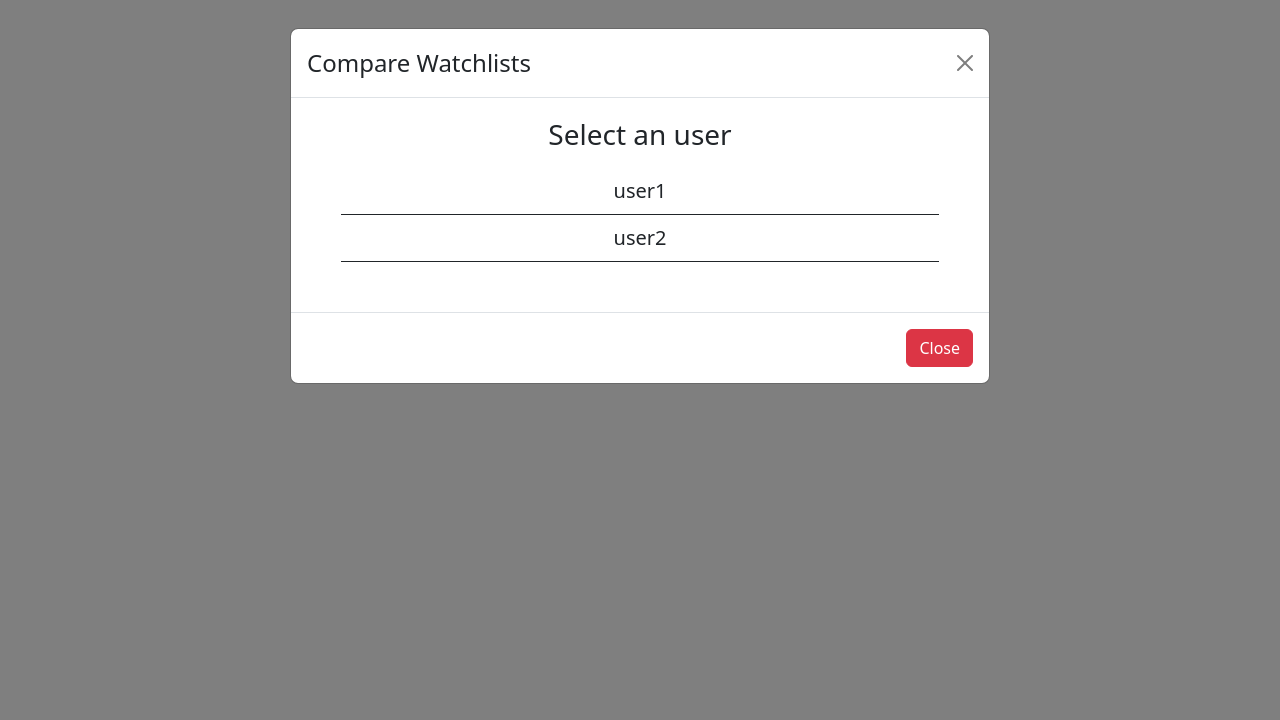
Compare Watchlist Modal › shows watchlists for a user when an user is selected
Click the button "user1" at {"x": 640, "y": 191}, box 341,168 -> 939,215
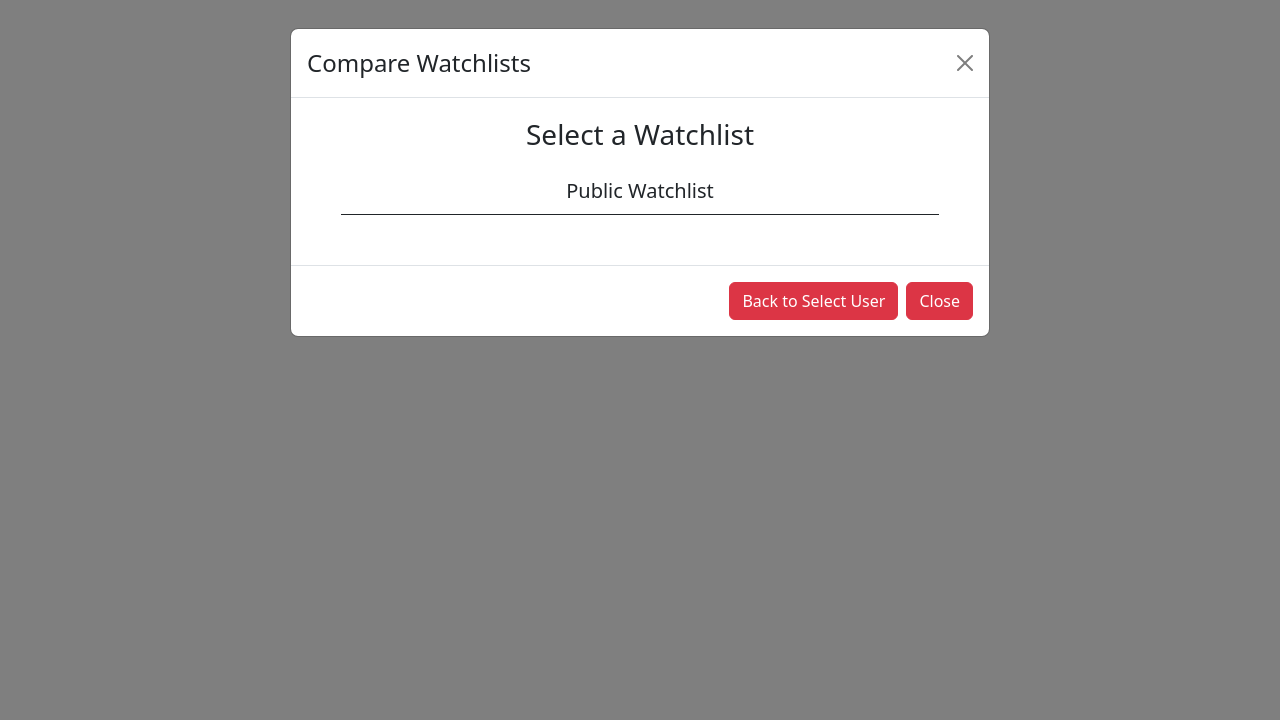
Check: the heading "Select a Watchlist" is shown, box 526,115 -> 754,153
Check: the button "Public Watchlist" is shown, box 341,168 -> 939,215
